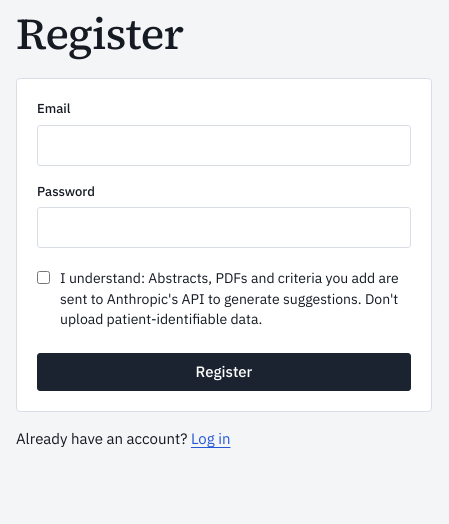
Scenario: RegisterPage › clears the reminder once registration is tried again with the box ticked
This screenshot has width=449, height=524.
In the field labelled "Email": [224, 145] box [37,125,411,166], type "reviewer@example.com"
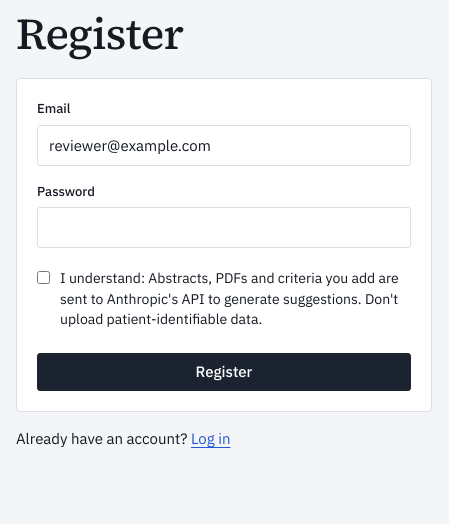
In the password field labelled "Password": [224, 228] box [37,207,411,248], type "correcthorse"
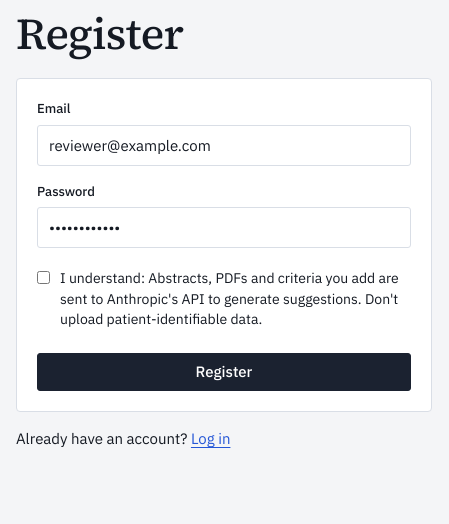
Click the button "Register": [224, 372] box [37,353,411,391]
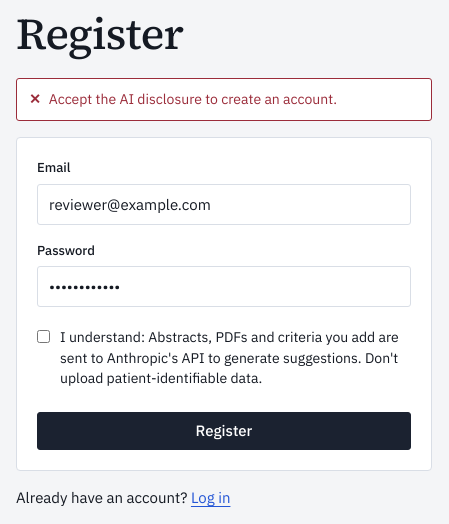
Expected: the message "Accept the AI disclosure to create an account." is shown, [16,78,432,121]
Click the checkbox labelled "I understand": [44, 337] box [37,330,50,343]
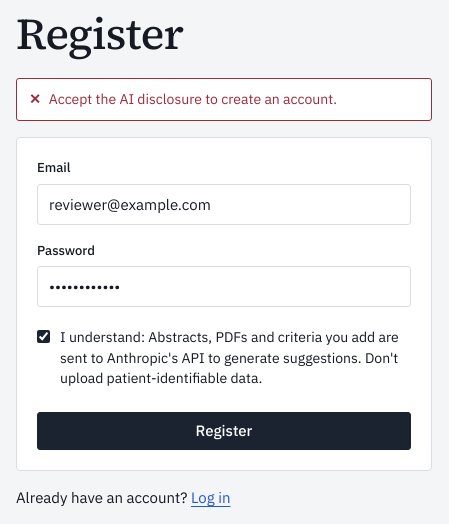
Click the button "Register": [224, 431] box [37,412,411,450]
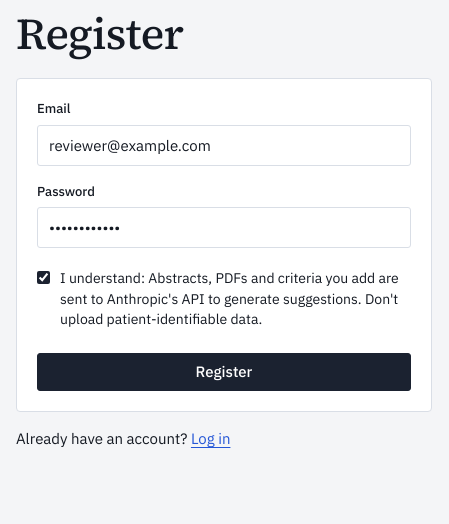
Expected: the message "Accept the AI disclosure to create an account." is gone
